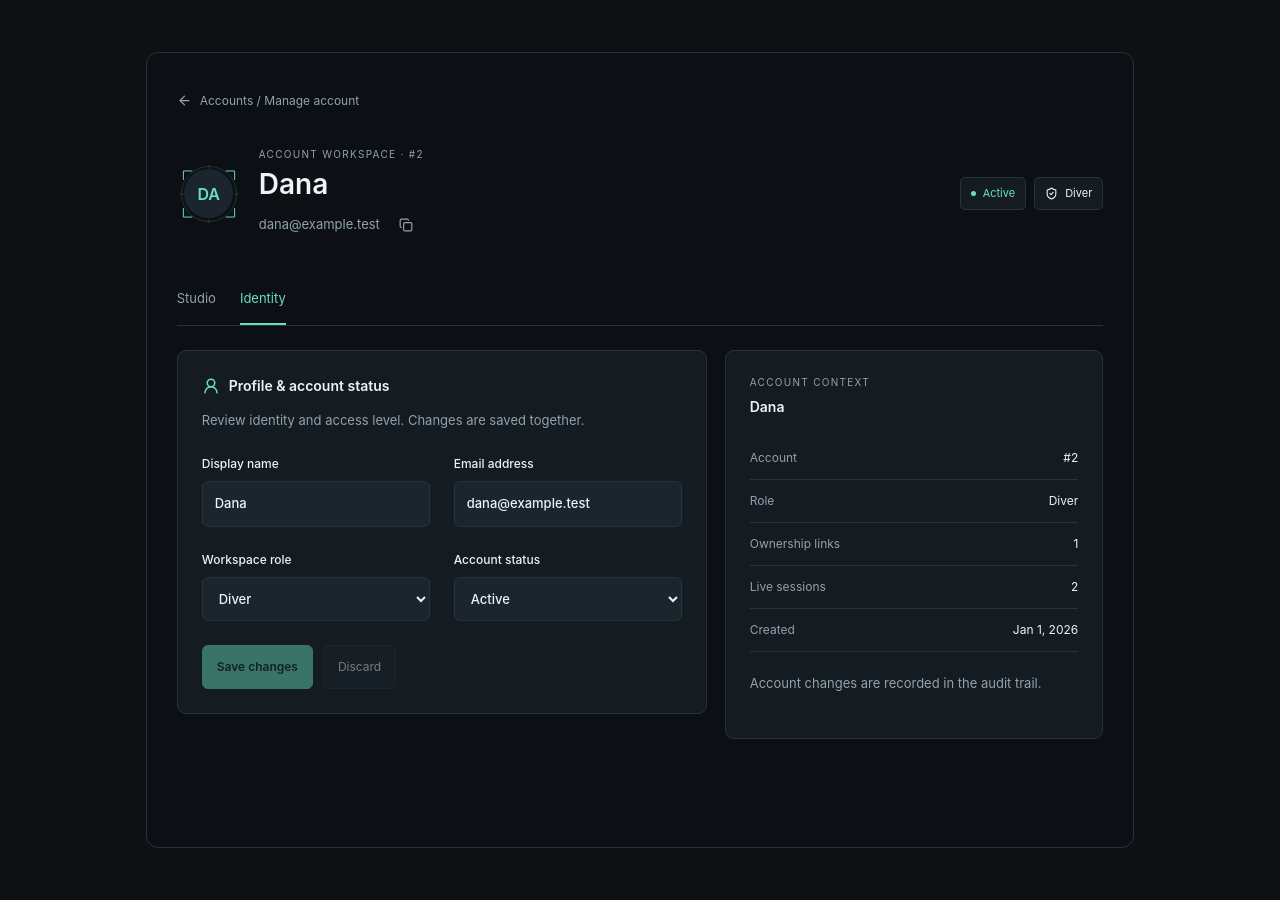
Test case: AccountWorkspace › keeps unsaved edits after an API error and can discard them
The image size is (1280, 900).
Replace the text in the field labelled "Display name" with "Changed" at x=316, y=504, box 202,482 -> 430,527
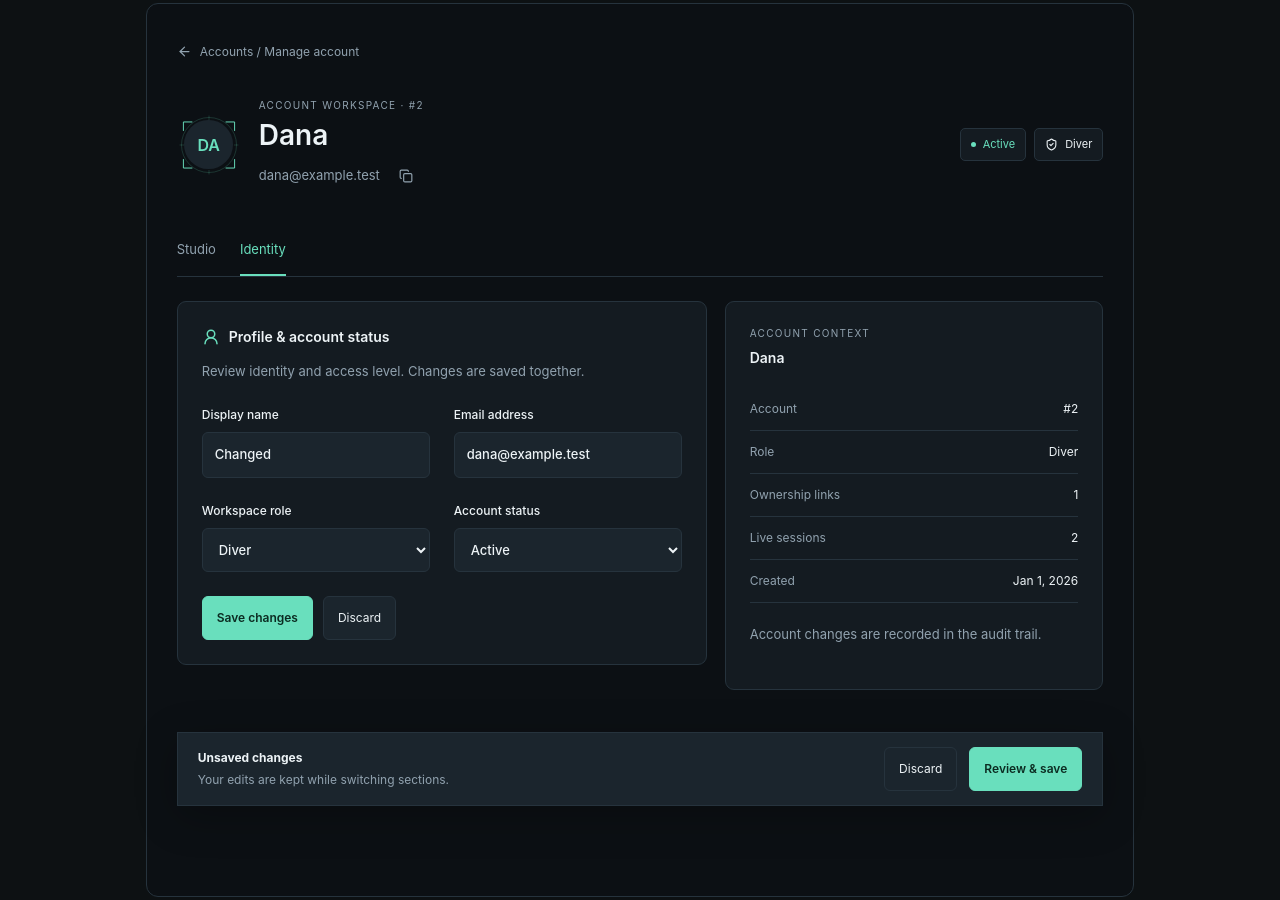
Click the button "Save changes" at x=257, y=618, box 202,596 -> 313,640
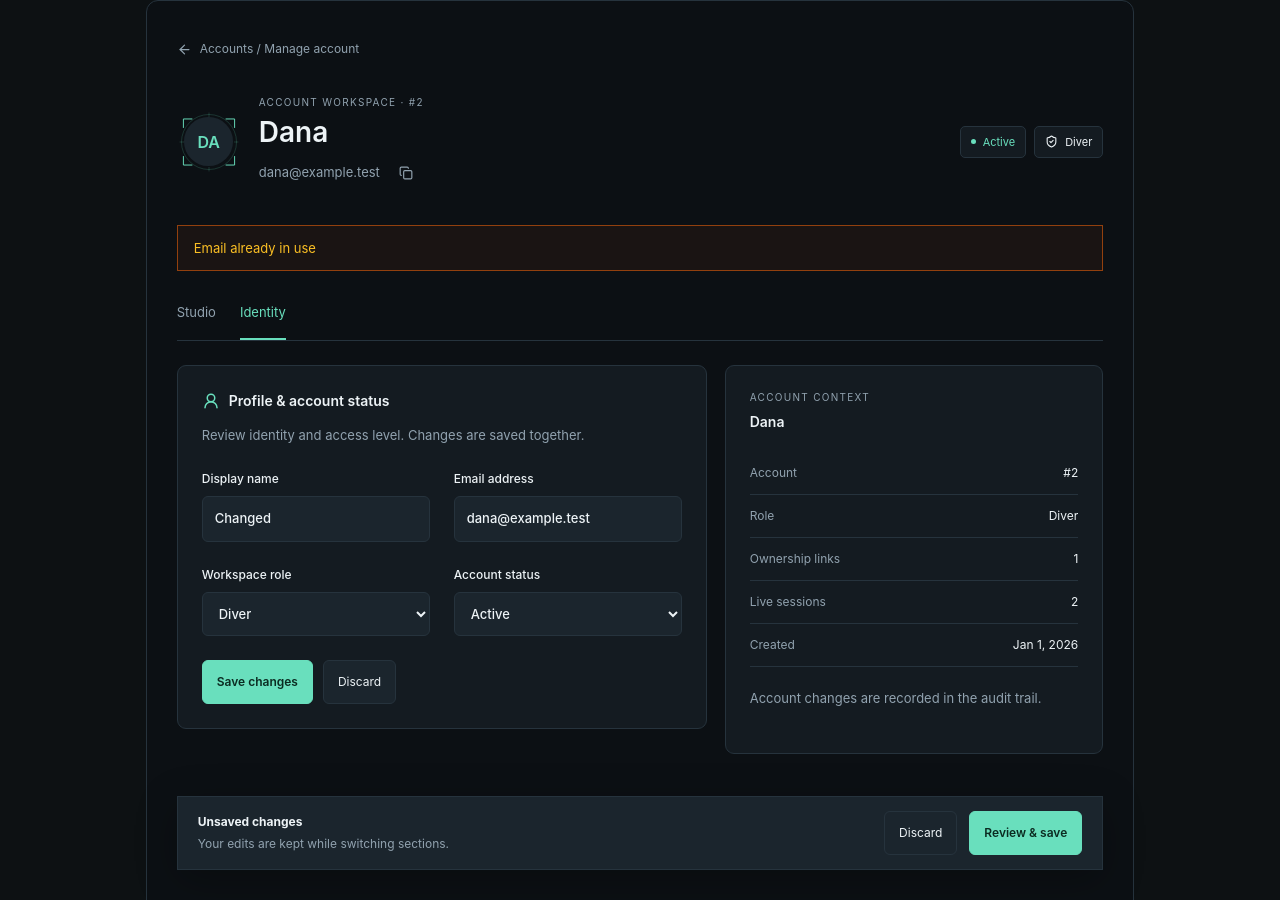
Expected: the message reads "Email already in use", 194,240 -> 316,256
Click the button "Discard" below "Workspace role" at x=360, y=682, box 323,660 -> 396,704
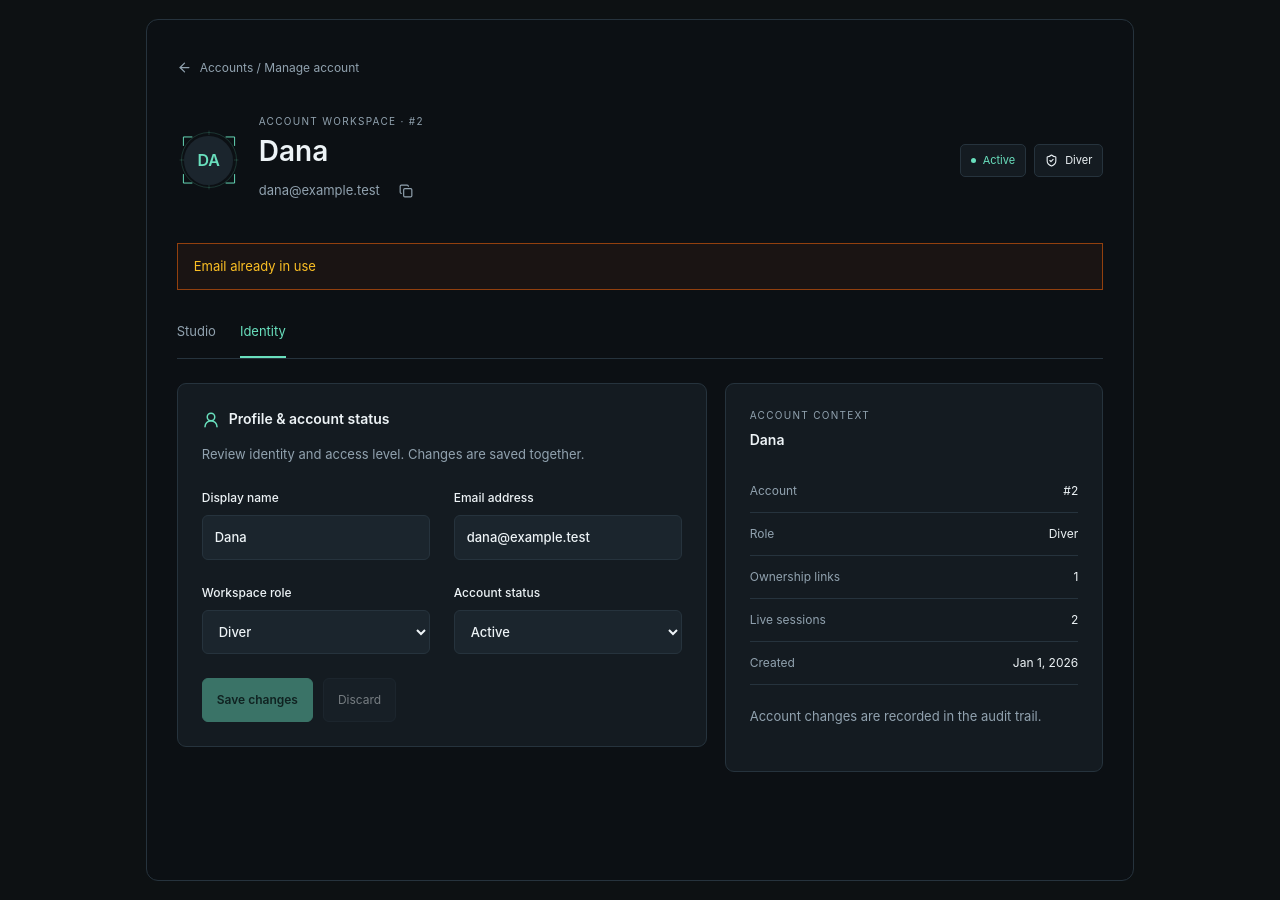
Expected: the field labelled "Display name" holds "Dana", 202,515 -> 430,560
Expected: the text "Unsaved changes" is gone
